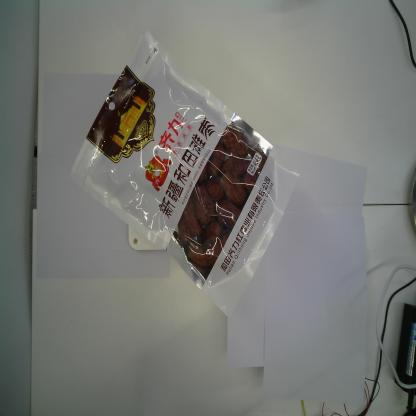Dried Food: (66, 26, 300, 320)
